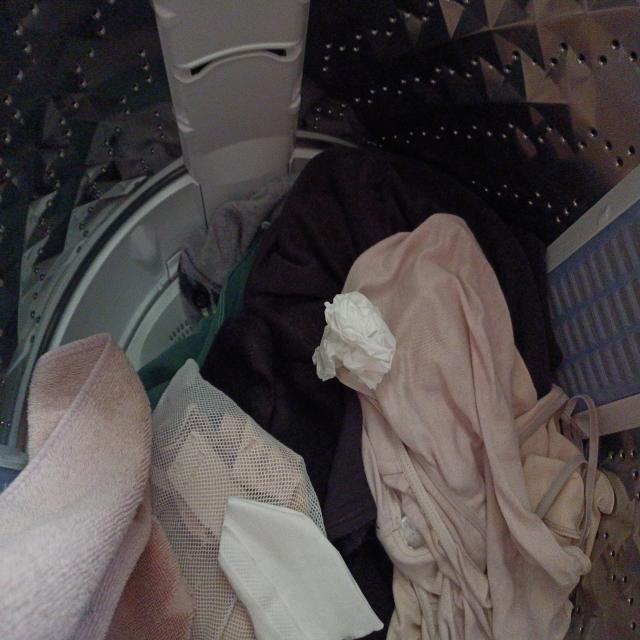衛生紙: (308, 292, 398, 387)
